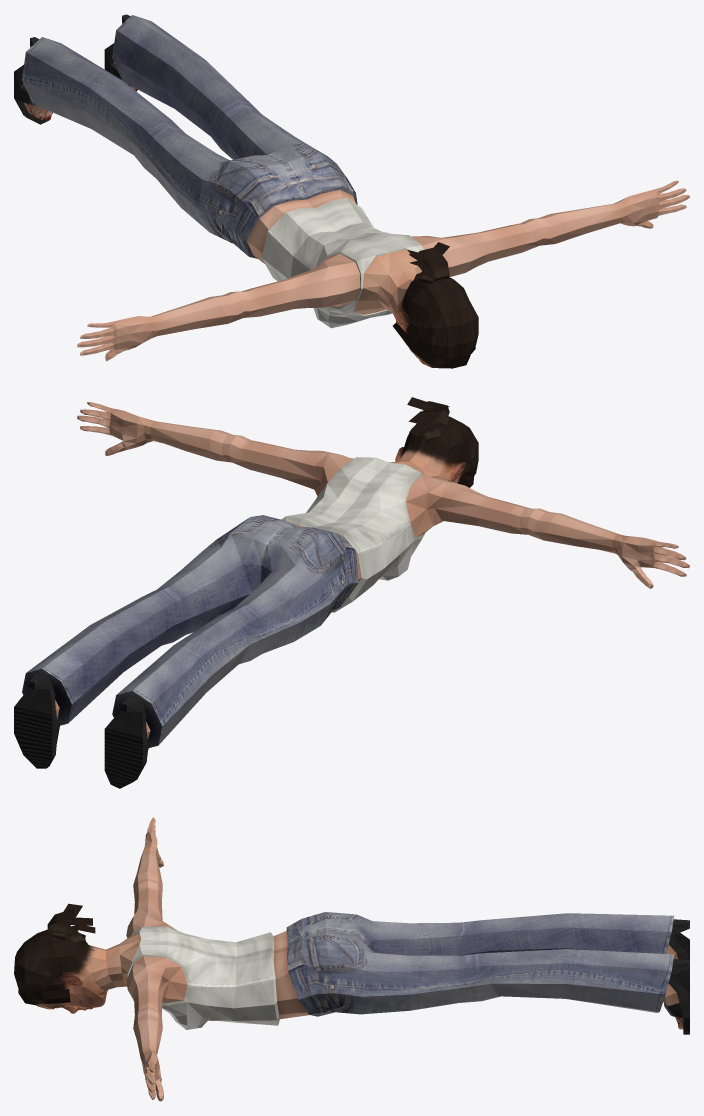
Rendered from tomdrinwoman1_3k_wtf.obj.
3 renders of one model, top to bottom at view 1: azimuth 30°, elevation 25°; view 2: azimuth 150°, elevation 25°; view 3: azimuth 270°, elevation 25°, orthographic. The views are drawn at different scales.
Visible parts, largest first — view 1: group1; view 2: group1; view 3: group1.
Part boxes in pixels (left/top/right/bottom): group1: left=14, top=14, right=689, bottom=368; group1: left=14, top=397, right=689, bottom=788; group1: left=14, top=817, right=689, bottom=1101.
Size of the model in its own units: 609 by 115 by 660.
